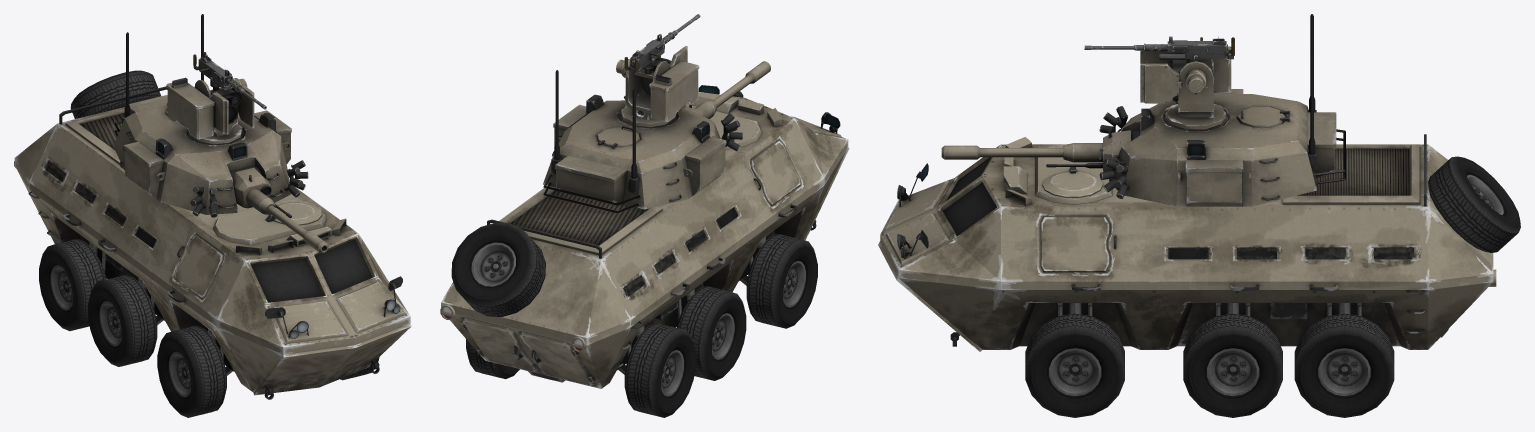
The model's file is vehicle-ifv-dmm08.fbx.
3 renders of one model, left to right at view 1: azimuth 30°, elevation 25°; view 2: azimuth 150°, elevation 25°; view 3: azimuth 270°, elevation 25°, orthographic. The views are drawn at different scales.
Visible parts, largest first — view 1: BODY_body; view 2: BODY_body; view 3: BODY_body.
Part boxes in pixels (x1,y1,x2,y2): BODY_body: [14, 14, 411, 417]; BODY_body: [440, 14, 849, 417]; BODY_body: [878, 14, 1520, 417].
Size of the model in its own units: 2.62 by 3.96 by 6.92.
